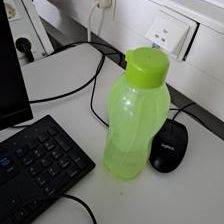bottle: (98, 43, 175, 179)
